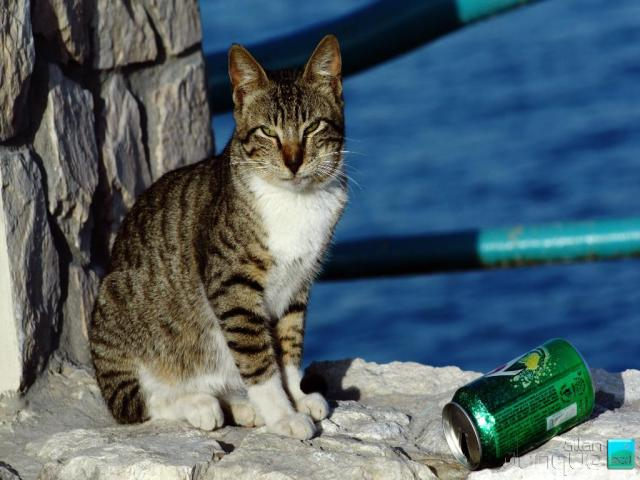Cat: (86, 36, 368, 440)
